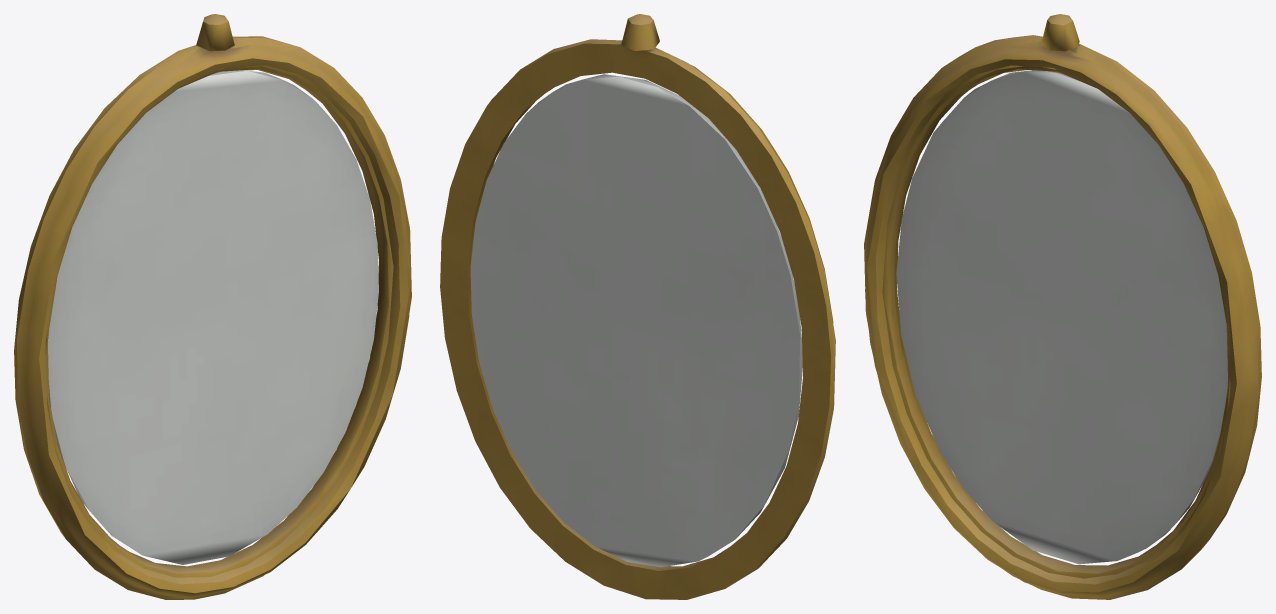
Rendered from wall_mirror-low.glb.
The picture shows the model from 3 angles, left to right: view 1: azimuth 30°, elevation 25°; view 2: azimuth 150°, elevation 25°; view 3: azimuth 330°, elevation 25°; orthographic projection.
Visible parts, largest first — view 1: wall_mirror-low; view 2: wall_mirror-low; view 3: wall_mirror-low.
Part boxes in pixels (x1=…): wall_mirror-low: x1=14, y1=14, x2=411, y2=599; wall_mirror-low: x1=440, y1=14, x2=835, y2=599; wall_mirror-low: x1=864, y1=14, x2=1261, y2=599.
Bounding box in the file's own units: 0.7033 × 0.9917 × 0.06.
Materials: 1 (1 with a texture image).
